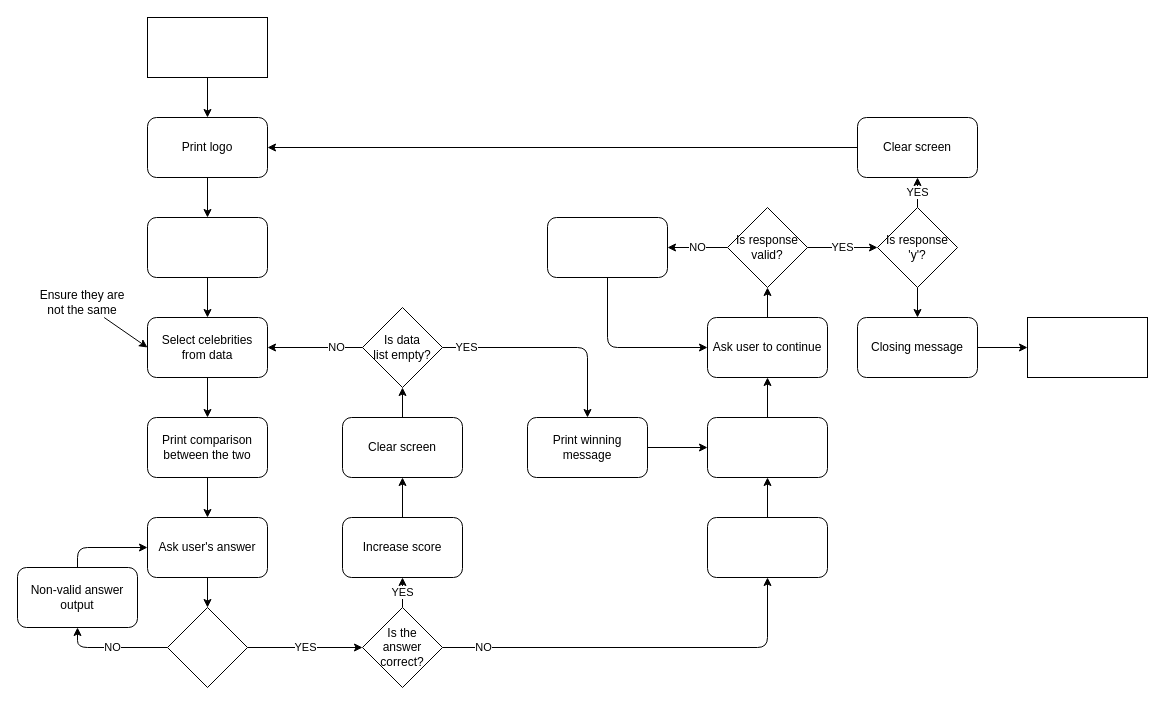
Image size: 1165x705. Some labels were removed from this diagram. Each missing label, with the centre of its shape:
"END" goes at [1087,347].
"Is the response valid?" goes at [207,647].
"Non-valid response message" goes at [607,247].
"Print losing message" goes at [767,547].
"Print score" goes at [767,447].
"Set score to 0" goes at [207,247].
"START" goes at [207,47].
